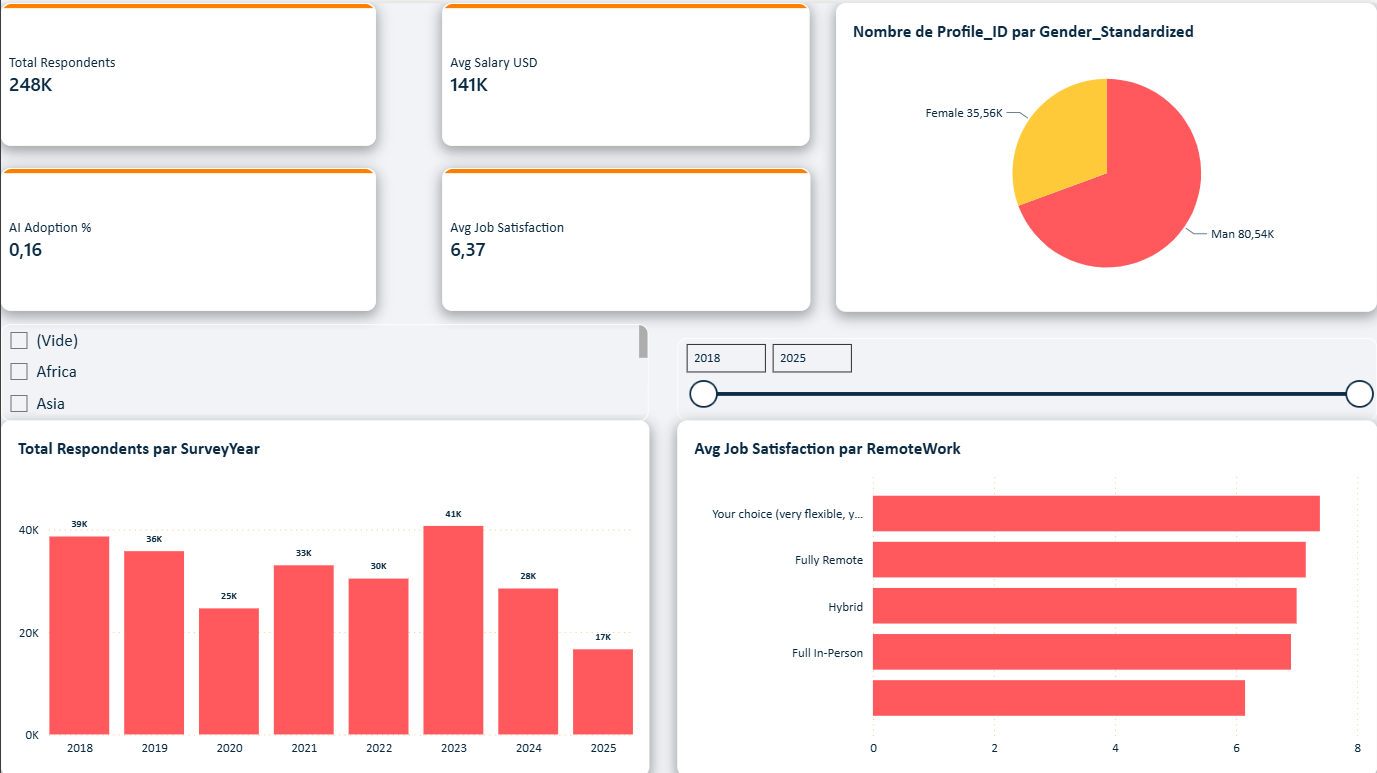

The dashboard page shown, as its layout file describes it:
{"tool":"powerbi","page":{"name":"Global","canvas":[1280,720],"ordinal":0},"visuals":[{"type":"cardVisual","fields":{"Data":["Fact_Developer.Avg Salary USD"]},"box":[410.7,0,341.2,133.1],"z":0,"group":"g1"},{"type":"slicer","fields":{"Values":["Dim_Time.SurveyYear"]},"box":[628.6,311.4,651.4,77.1],"z":0},{"type":"group","id":"g1","title":"Group 1","box":[0,0,752.9,287.1],"z":1000},{"type":"cardVisual","fields":{"Data":["Fact_Developer.Total Respondents"]},"box":[0,0,348.8,133.1],"z":1000,"group":"g1"},{"type":"cardVisual","fields":{"Data":["Fact_Developer.AI Adoption %"]},"box":[0,154,348.9,133.1],"z":2000,"group":"g1"},{"type":"clusteredColumnChart","fields":{"Category":["Dim_Time.SurveyYear"],"Y":["Fact_Developer.Total Respondents"]},"box":[0,388.6,602.9,331.4],"z":2000},{"type":"cardVisual","fields":{"Data":["Fact_Developer.Avg Job Satisfaction"]},"box":[410.8,154,342.1,133.1],"z":3000,"group":"g1"},{"type":"slicer","fields":{"Values":["Dim_Geography.Region"]},"box":[0,298.8,602.5,90],"z":3000},{"type":"pieChart","fields":{"Category":["Gender.Gender_Standardized"],"Y":["CountNonNull(Dim_Profile.Profile_ID)"]},"box":[777.1,0,502.9,287.1],"z":4000},{"type":"clusteredBarChart","fields":{"Category":["Dim_Work.RemoteWork"],"Y":["Fact_Developer.Avg Job Satisfaction"]},"box":[628.6,388.6,651.4,331.4],"z":5000}]}

Visuals, with their boxes in screenshot pixels (x1, y1, x2, y2), scaled from the page's 1280x720 canvas onto the 1377x773 screenshot:
cardVisual - Fact_Developer.Avg Salary USD: bbox(442, 0, 809, 143)
slicer - Dim_Time.SurveyYear: bbox(676, 334, 1376, 417)
"Group 1" group: bbox(0, 0, 810, 308)
cardVisual - Fact_Developer.Total Respondents: bbox(0, 0, 375, 143)
cardVisual - Fact_Developer.AI Adoption %: bbox(0, 165, 375, 308)
clusteredColumnChart - Dim_Time.SurveyYear x Fact_Developer.Total Respondents: bbox(0, 417, 649, 772)
cardVisual - Fact_Developer.Avg Job Satisfaction: bbox(442, 165, 810, 308)
slicer - Dim_Geography.Region: bbox(0, 321, 648, 417)
pieChart - Gender.Gender_Standardized x CountNonNull(Dim_Profile.Profile_ID): bbox(836, 0, 1376, 308)
clusteredBarChart - Dim_Work.RemoteWork x Fact_Developer.Avg Job Satisfaction: bbox(676, 417, 1376, 772)
